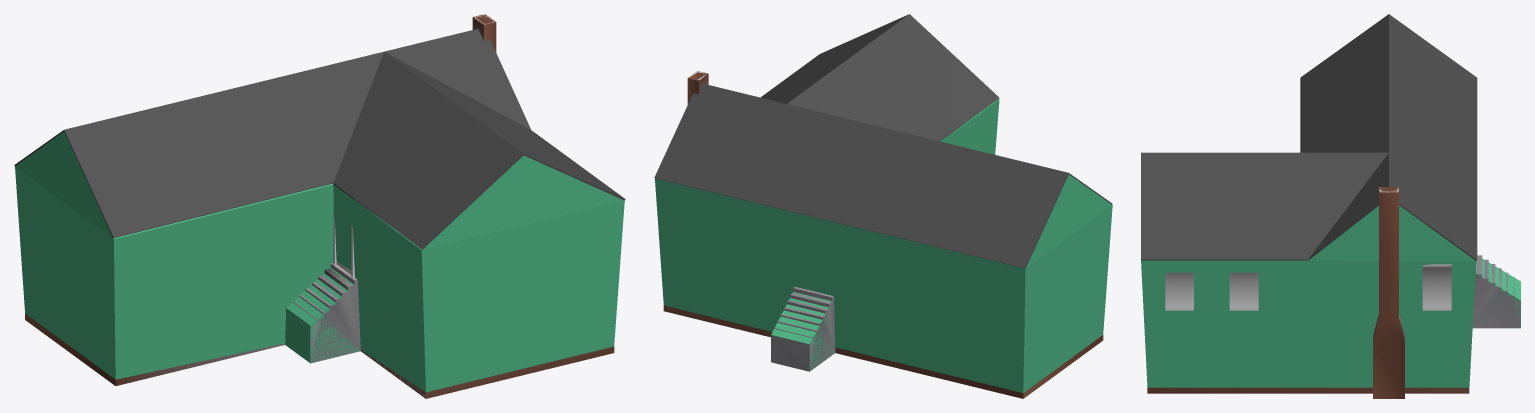
Rendered from eca_bld_house_sml_02.dae.
3 views of the same model, side by side, from view 1: azimuth 30°, elevation 25°; view 2: azimuth 150°, elevation 25°; view 3: azimuth 270°, elevation 25° (orthographic). The views are drawn at different scales.
Parts seen in each view (by area): view 1: Colmesh-1, ind_bld_a100, ind_bld_a800; view 2: Colmesh-1, ind_bld_a800, ind_bld_a100; view 3: Colmesh-1, ind_bld_a800, ind_bld_a100.
Part boxes in pixels (x1,y1,x2,y2): Colmesh-1: [15, 131, 624, 392]; ind_bld_a100: [25, 14, 614, 398]; ind_bld_a800: [14, 14, 625, 397]; Colmesh-1: [655, 99, 1112, 392]; ind_bld_a800: [654, 14, 1112, 268]; ind_bld_a100: [663, 14, 1110, 398]; Colmesh-1: [1141, 205, 1520, 387]; ind_bld_a800: [1141, 14, 1477, 260]; ind_bld_a100: [1147, 14, 1520, 398].
Size of the model in its own units: 13.6 by 11.8 by 7.08.
